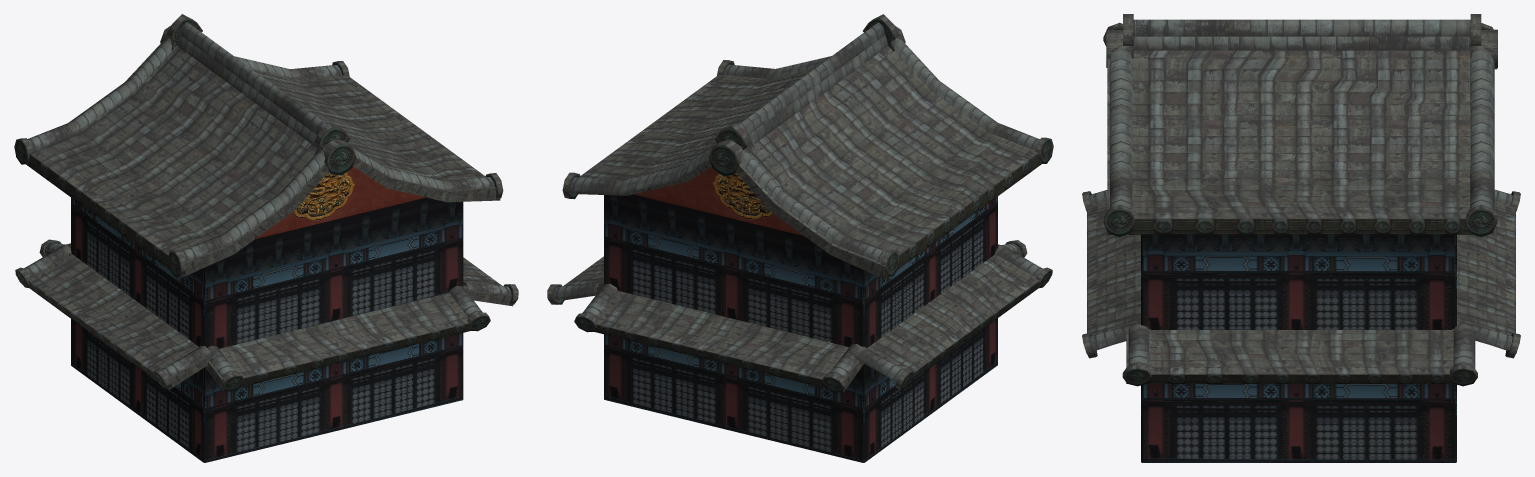
Rendered from m_house_a.FBX.
3 renders of one model, left to right at view 1: azimuth 30°, elevation 25°; view 2: azimuth 150°, elevation 25°; view 3: azimuth 270°, elevation 25°, orthographic. The views are drawn at different scales.
Visible parts, largest first — view 1: Box003; view 2: Box003; view 3: Box003.
Part boxes in pixels (x1,y1,x2,y2): Box003: (14, 14, 518, 462); Box003: (547, 14, 1053, 462); Box003: (1082, 14, 1520, 462).
Size of the model in its own units: 208 by 174 by 188.
2 materials, 2 textured.
